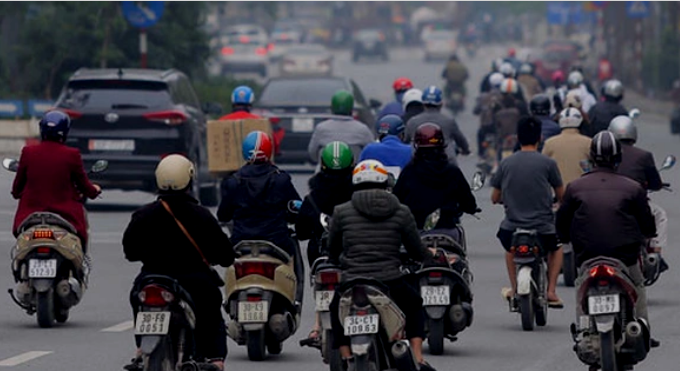Bien-so: (137, 296, 173, 324), (343, 318, 379, 344), (240, 295, 272, 323), (586, 319, 620, 345), (36, 233, 65, 258), (112, 117, 154, 134), (422, 296, 452, 318), (314, 291, 338, 316)
